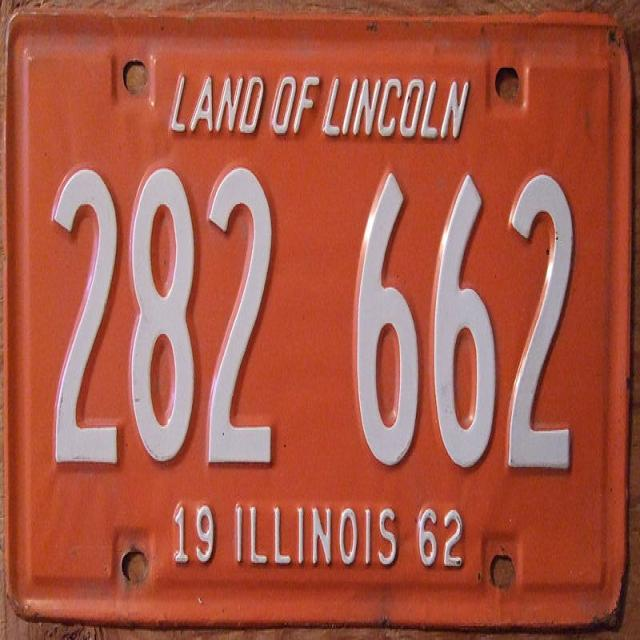placa: (12, 140, 604, 484)
